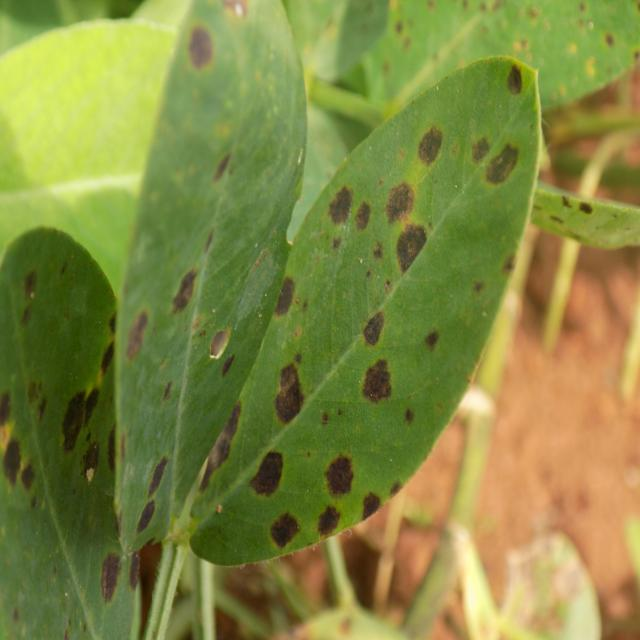Ground nut_tikka leaf spot: (185, 45, 536, 569)
